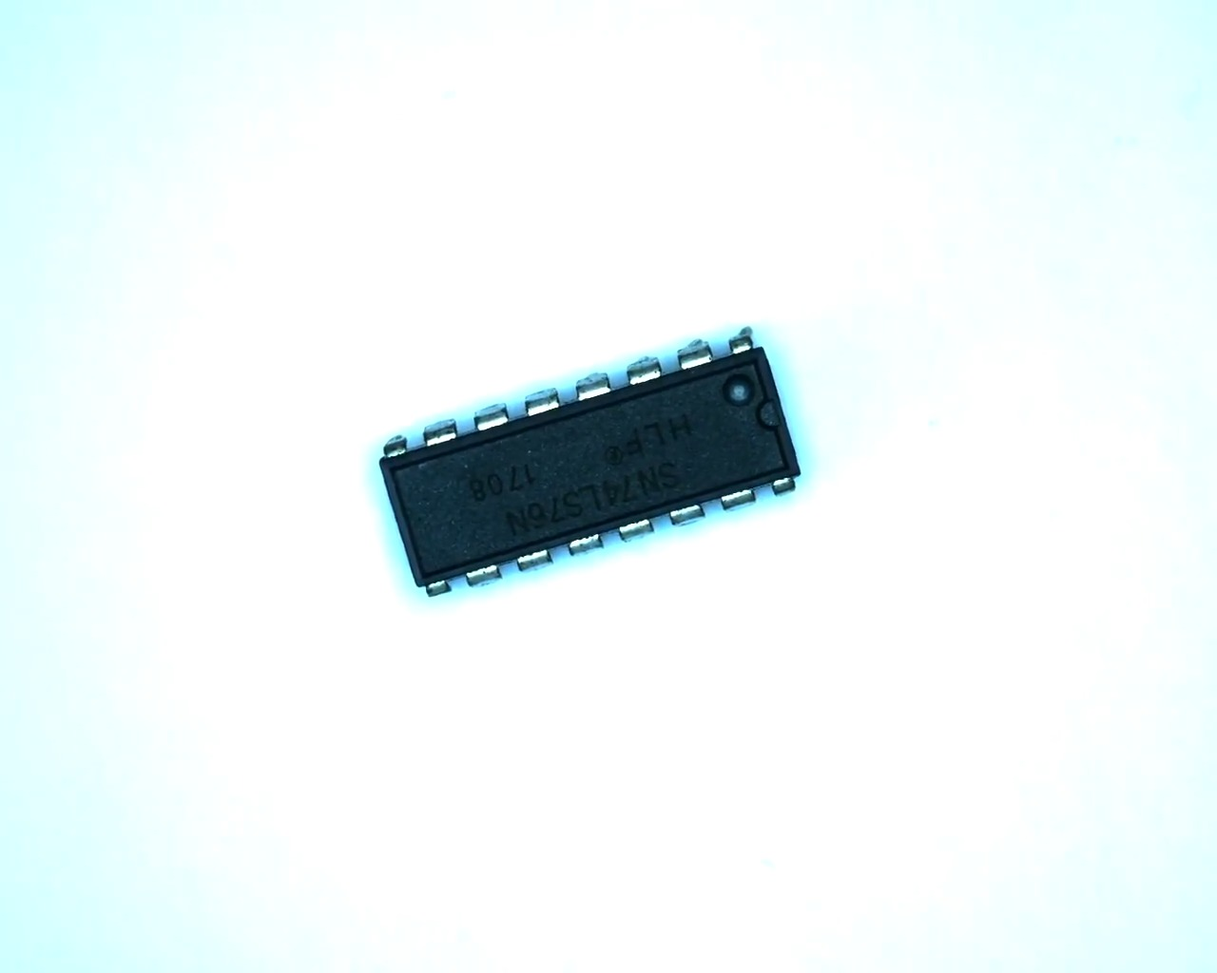IC: (362, 320, 811, 609)
notch: (751, 395, 791, 434)
